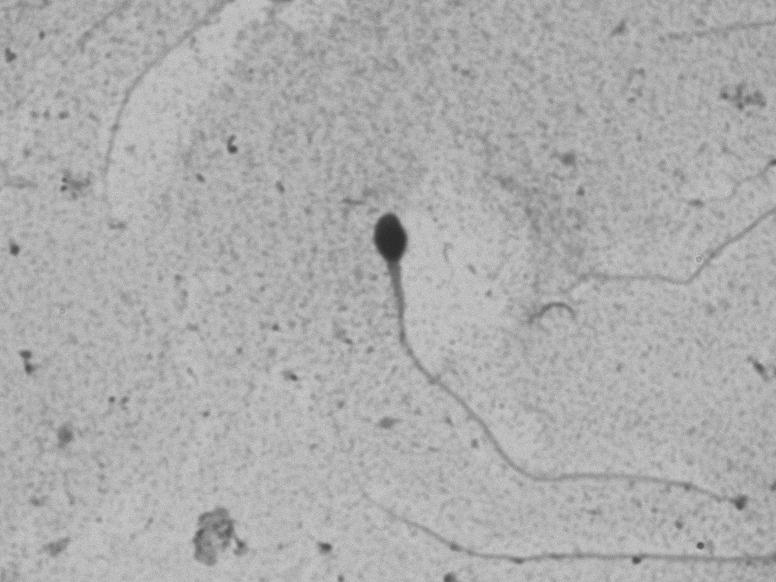Abnormal: (336, 159, 720, 512)
